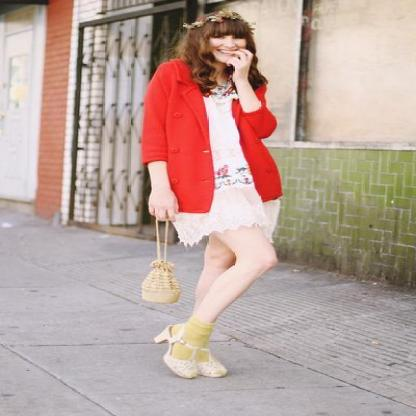bag: (141, 258, 177, 313)
dress: (172, 92, 278, 246)
jacket: (139, 58, 282, 213)
shoe: (144, 324, 226, 376)
